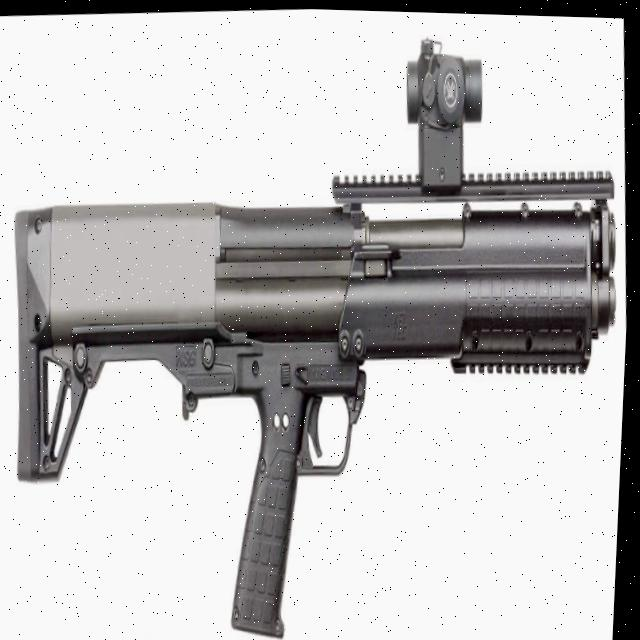firearm: (0, 10, 640, 640)
